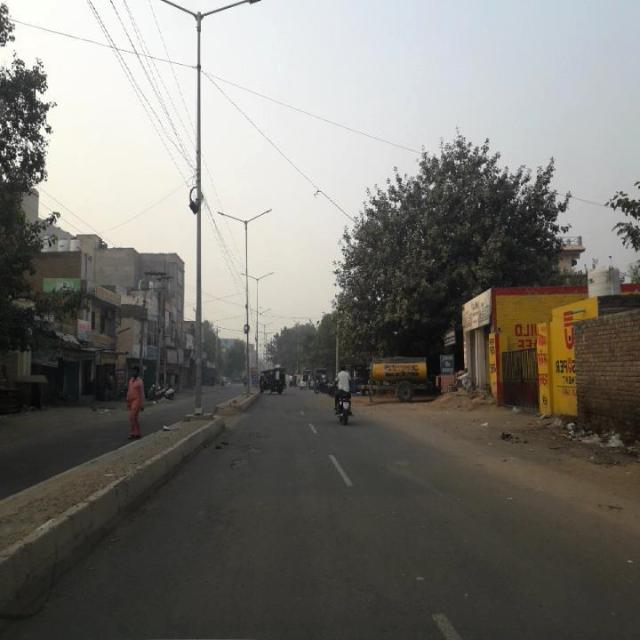pothole: (228, 436, 268, 476), (202, 503, 240, 539)
